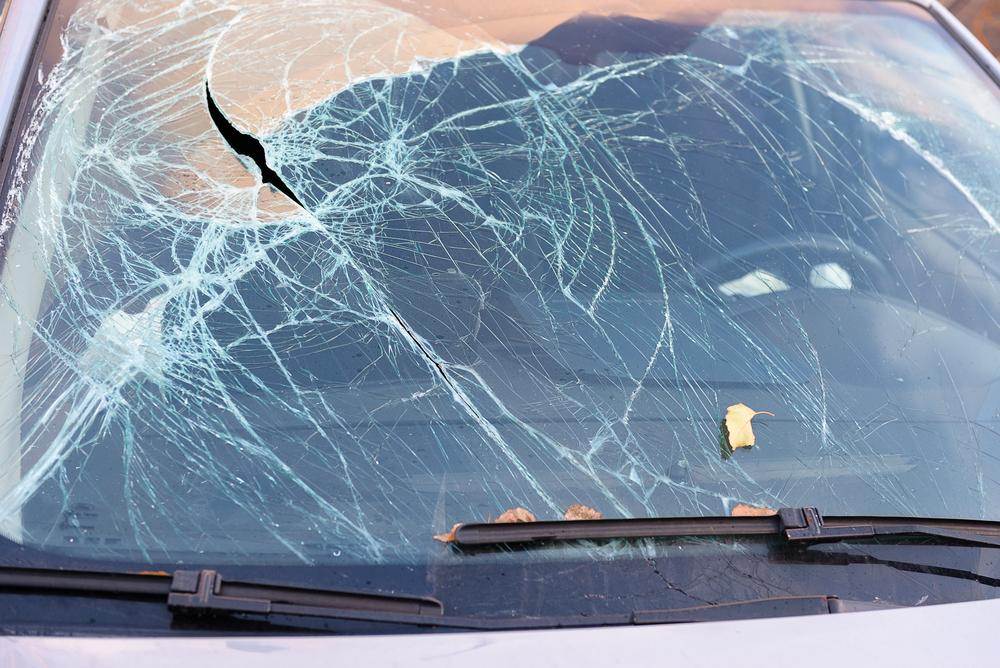glass shatter: (0, 0, 1000, 617)
